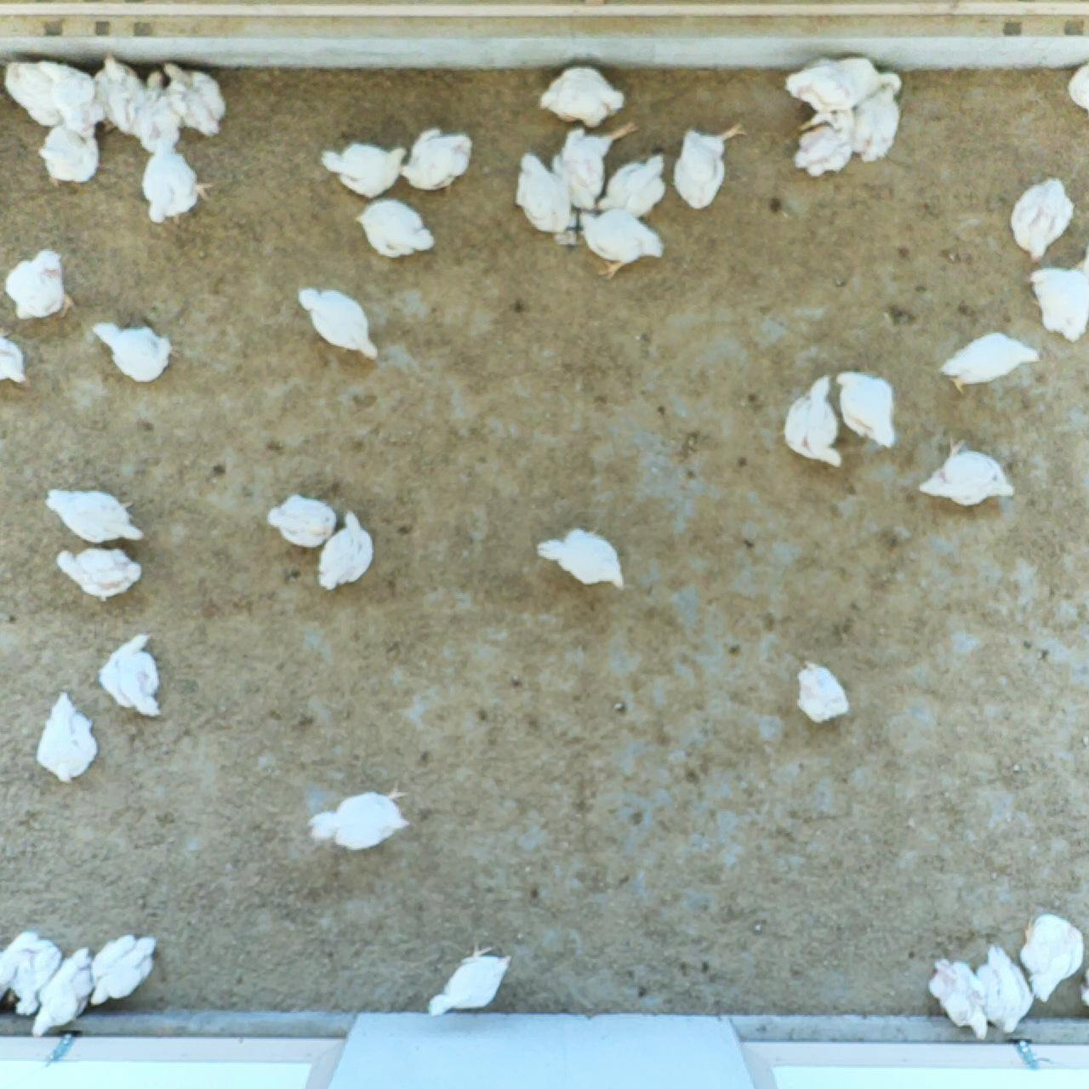chicken: (785, 52, 898, 128), (555, 119, 641, 216), (310, 781, 412, 856), (916, 439, 1016, 508), (576, 209, 667, 282), (679, 121, 749, 214), (940, 328, 1041, 391), (512, 153, 577, 246), (430, 943, 513, 1014), (299, 287, 379, 360), (33, 946, 99, 1034), (144, 141, 212, 225), (44, 487, 144, 544), (35, 692, 98, 782), (536, 525, 624, 588), (99, 633, 163, 717), (42, 59, 111, 135), (784, 373, 841, 463), (90, 322, 174, 383), (1012, 177, 1075, 258), (1, 927, 60, 1012), (90, 936, 160, 1007), (1023, 266, 1088, 341), (539, 66, 624, 123), (928, 959, 987, 1041), (7, 248, 70, 324), (313, 512, 374, 590), (6, 58, 66, 136), (403, 127, 478, 189), (355, 199, 435, 257), (323, 143, 404, 200), (597, 153, 667, 218), (57, 548, 141, 602), (1029, 915, 1082, 1000), (840, 371, 898, 448), (792, 108, 853, 180), (165, 64, 226, 136), (978, 946, 1029, 1030), (38, 123, 102, 189), (133, 71, 182, 153), (94, 49, 142, 132), (853, 85, 901, 163), (266, 494, 334, 546), (797, 661, 847, 723), (1, 337, 32, 388), (1063, 61, 1089, 108), (1081, 972, 1089, 1009)
